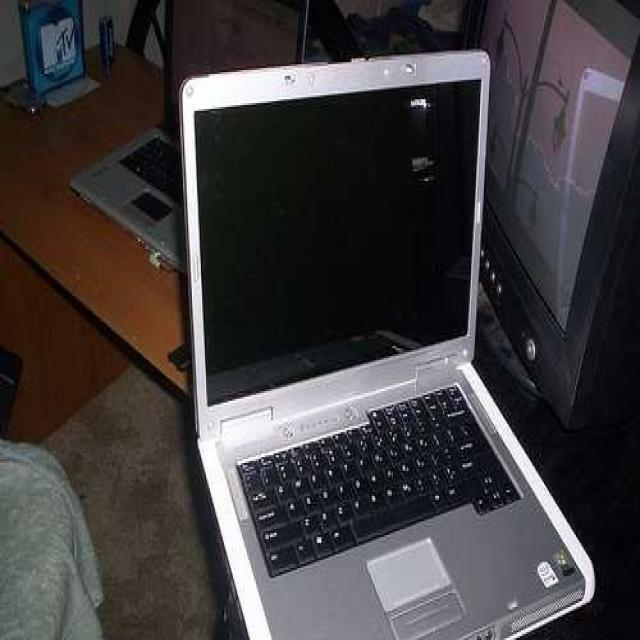laptop: (168, 54, 600, 640)
